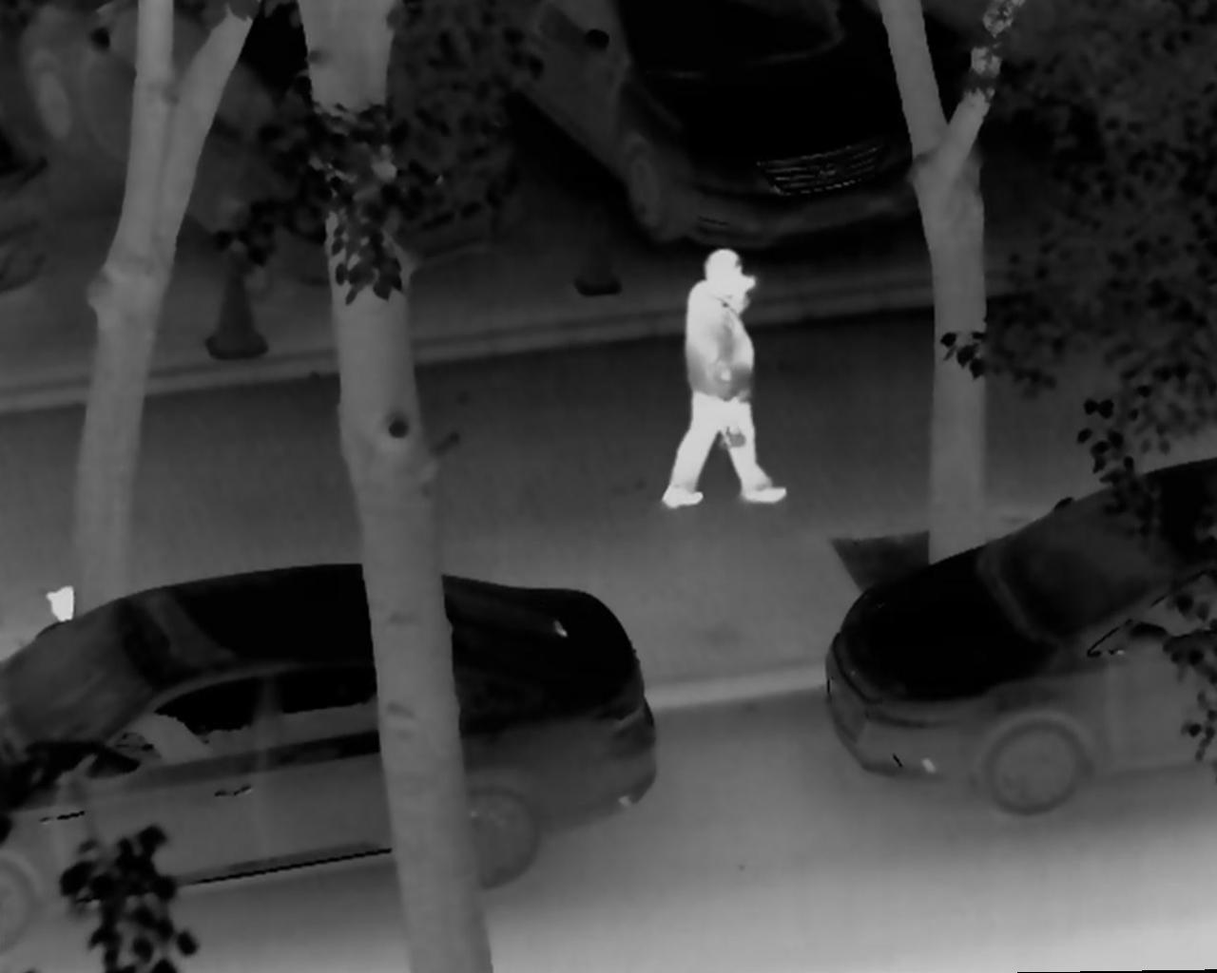person: (653, 249, 784, 509)
